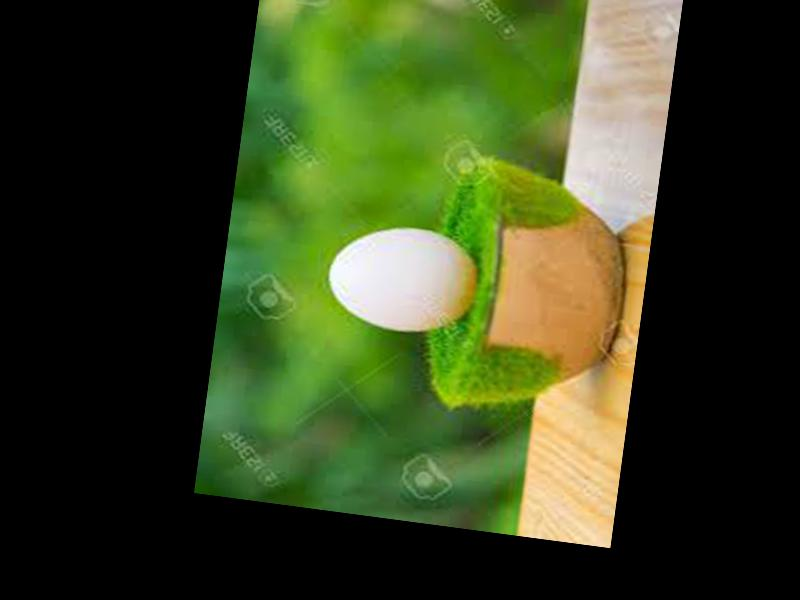Eggs: (326, 216, 483, 338)
